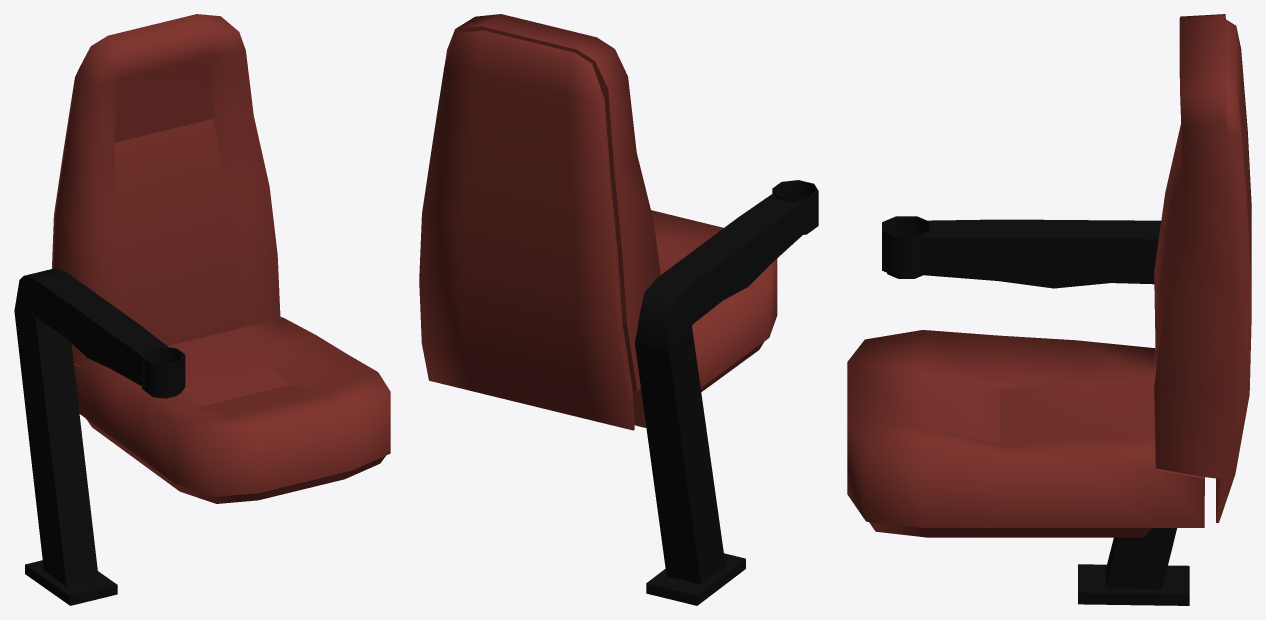
File: Cadeira.fbx
The picture shows the model from 3 angles, left to right: view 1: azimuth 30°, elevation 25°; view 2: azimuth 150°, elevation 25°; view 3: azimuth 270°, elevation 25°; orthographic projection. The views are drawn at different scales.
Visible parts, largest first — view 1: Cadeira; view 2: Cadeira; view 3: Cadeira.
Part boxes in pixels (bbox=[...]): Cadeira: bbox=[14, 14, 390, 605]; Cadeira: bbox=[419, 14, 818, 605]; Cadeira: bbox=[847, 14, 1251, 605].
Size of the model in its own units: 59.07 by 116 by 68.79.
